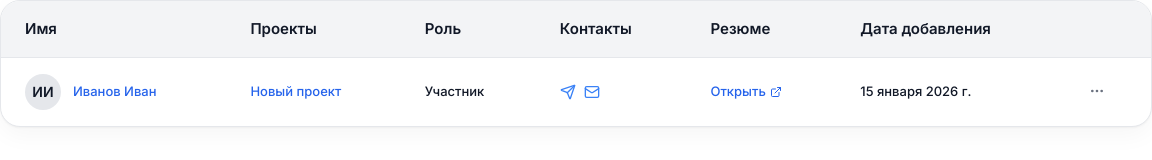
Test: TableMembers: редактирование роли › по клику открывает поле ввода
The width and height of the screenshot is (1152, 160).
Click the button titled "Изменить роль" at {"x": 455, "y": 92}, box [421,82,488,101]
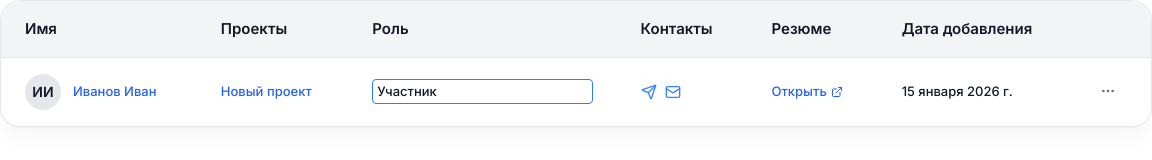
Check: the field named "Роль" holds "Участник", box [372,79,593,104]
